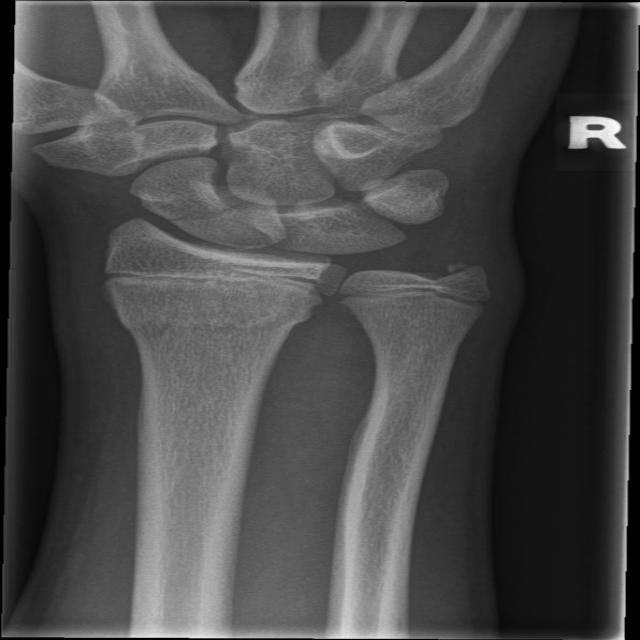fracture: (92, 253, 350, 311), (112, 296, 311, 347), (322, 265, 502, 319)
